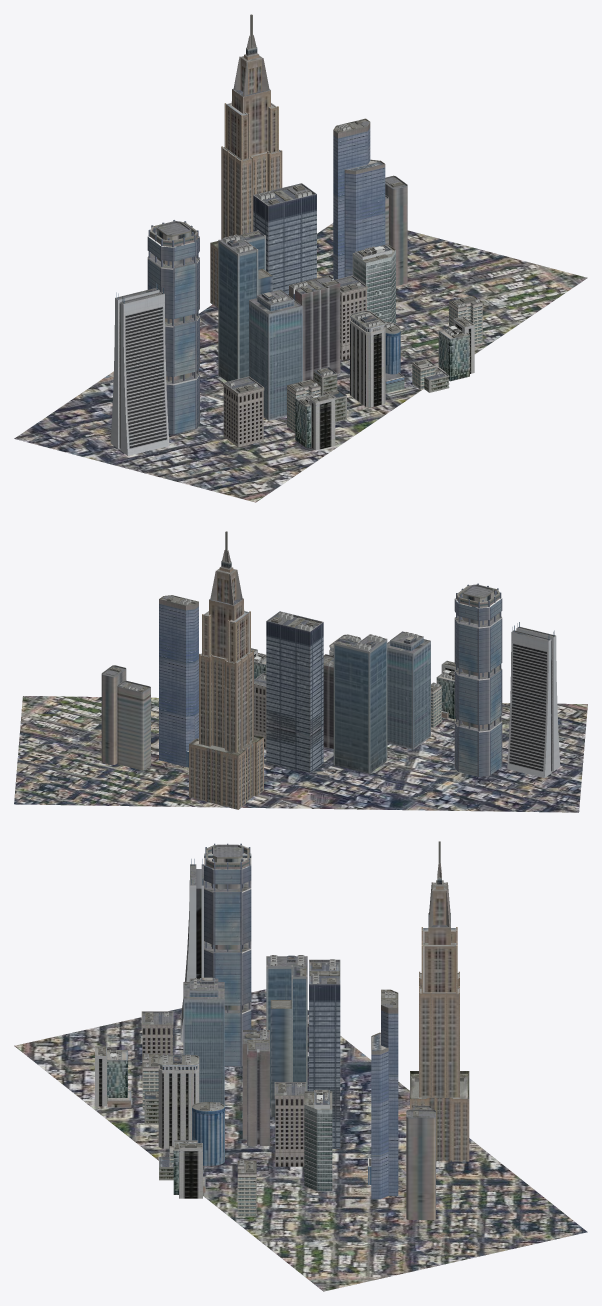
File: cityrear-build49.glb
The picture shows the model from 3 angles, top to bottom: view 1: azimuth 30°, elevation 25°; view 2: azimuth 150°, elevation 25°; view 3: azimuth 270°, elevation 25°; orthographic projection. The views are drawn at different scales.
Parts seen in each view (by area): view 1: ground_2, object 11, object 15, object 13, object 5, object 4, object 6, object 2, object 7, object 19, object 20, object 10 (+9 smaller); view 2: ground_2, object 11, object 13, object 2, object 4, object 15, object 5, object 6, object 8, object 7, object 17, object 1 (+1 smaller); view 3: ground_2, object 11, object 13, object 5, object 4, object 2, object 6, object 8, object 19, object 7, object 10, object 1 (+7 smaller).
Boxes of the visible parts, x1=… form: ground_2: x1=14, y1=223, x2=587, y2=502; object 11: x1=210, y1=14, x2=282, y2=307; object 15: x1=110, y1=283, x2=169, y2=455; object 13: x1=147, y1=220, x2=199, y2=434; object 5: x1=333, y1=118, x2=385, y2=279; object 4: x1=218, y1=230, x2=272, y2=381; object 6: x1=249, y1=289, x2=302, y2=420; object 2: x1=253, y1=183, x2=316, y2=295; object 7: x1=289, y1=275, x2=340, y2=380; object 19: x1=350, y1=310, x2=385, y2=407; object 20: x1=223, y1=376, x2=264, y2=447; object 10: x1=352, y1=244, x2=395, y2=323; ground_2: x1=14, y1=696, x2=587, y2=812; object 11: x1=189, y1=531, x2=263, y2=809; object 13: x1=454, y1=583, x2=502, y2=776; object 2: x1=266, y1=611, x2=323, y2=772; object 4: x1=333, y1=634, x2=387, y2=773; object 15: x1=507, y1=622, x2=560, y2=778; object 5: x1=159, y1=595, x2=198, y2=767; object 6: x1=387, y1=631, x2=430, y2=749; object 8: x1=101, y1=665, x2=150, y2=770; object 7: x1=323, y1=654, x2=333, y2=748; object 17: x1=436, y1=660, x2=455, y2=719; object 1: x1=254, y1=673, x2=266, y2=747; ground_2: x1=14, y1=989, x2=587, y2=1291; object 11: x1=410, y1=841, x2=469, y2=1161; object 13: x1=204, y1=843, x2=251, y2=1065; object 5: x1=368, y1=989, x2=398, y2=1199; object 4: x1=266, y1=955, x2=307, y2=1116; object 2: x1=309, y1=959, x2=340, y2=1148; object 6: x1=183, y1=977, x2=224, y2=1105; object 8: x1=406, y1=1105, x2=435, y2=1219; object 19: x1=158, y1=1055, x2=199, y2=1148; object 7: x1=242, y1=1030, x2=269, y2=1145; object 10: x1=304, y1=1090, x2=332, y2=1191; object 1: x1=274, y1=1082, x2=306, y2=1166.
Bounding box in the file's own units: 2.04 × 1 × 1.62.
2 materials, 2 textured.
